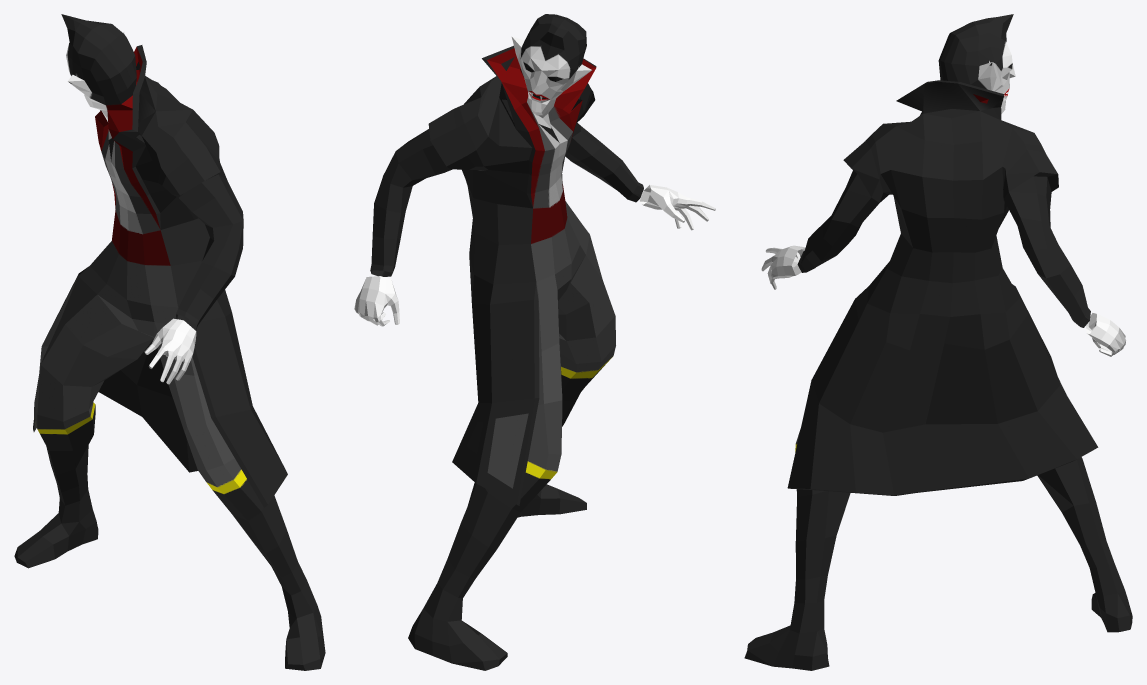
File: VampireIdle(74).obj
3 renders of one model, left to right at view 1: azimuth 30°, elevation 25°; view 2: azimuth 150°, elevation 25°; view 3: azimuth 270°, elevation 25°, orthographic. The views are drawn at different scales.
Visible parts, largest first — view 1: Plane002; view 2: Plane002; view 3: Plane002.
Boxes of the visible parts, <box> form: Plane002: <box>14,14,325,670</box>; Plane002: <box>354,14,715,670</box>; Plane002: <box>744,14,1132,670</box>.
Size of the model in its own units: 106 by 306 by 185.
